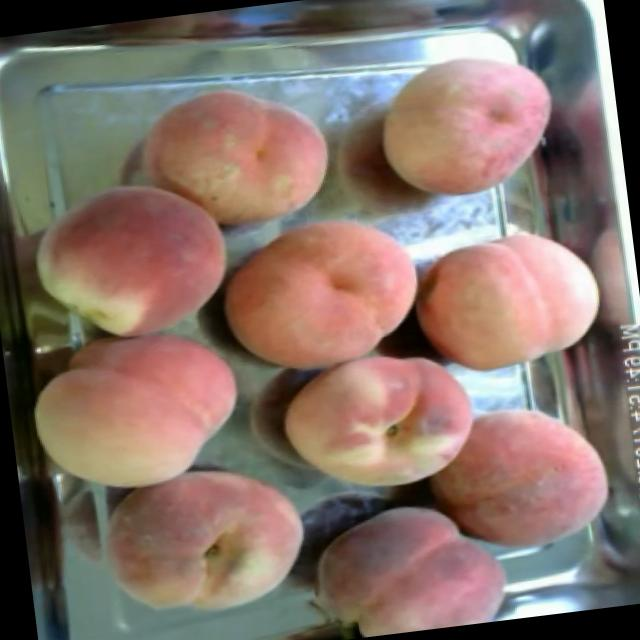Fruit: (8, 300, 264, 513), (76, 437, 331, 640), (9, 160, 245, 359), (200, 194, 437, 389), (124, 60, 350, 254), (259, 335, 495, 518), (408, 382, 628, 575), (400, 203, 620, 390), (358, 32, 573, 218), (289, 479, 520, 640)
